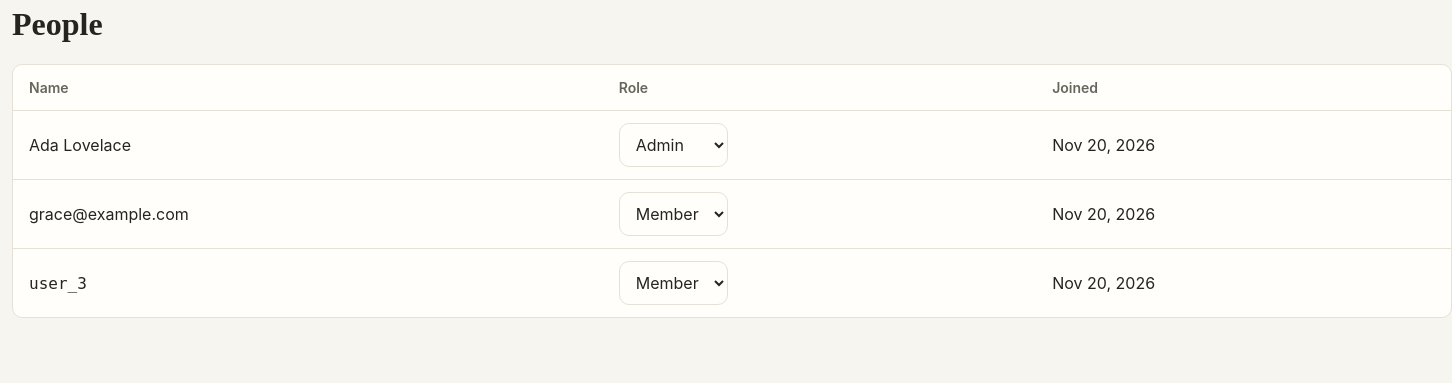
Scenario: PeoplePage › on a 403, keeps the old Role, says only an Admin can, and asks again for the person's Role
Select "Lead" in the dropdown named "Role for grace@example.com" at (673, 214), box [619,192,728,236]
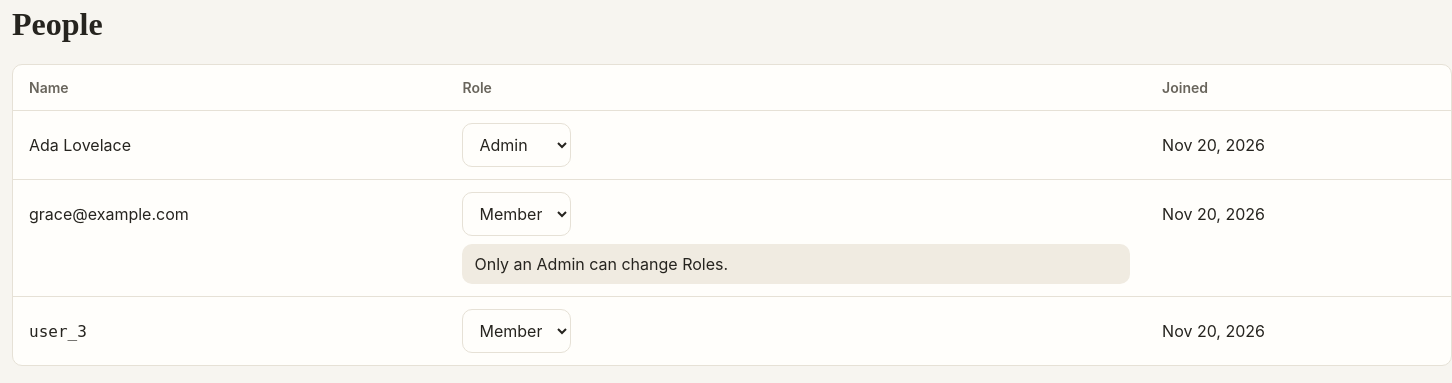
Now the message reads "Only an Admin can change Roles.", box [474,254,728,274]
